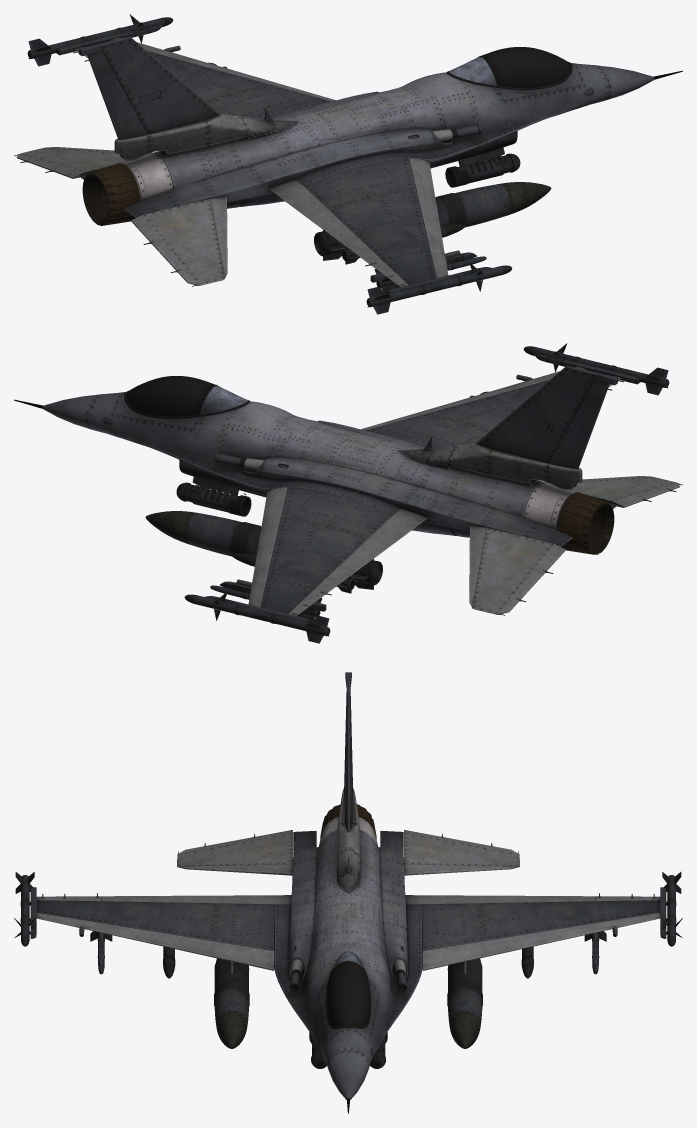
The model's file is fighter_jet.glb.
3 renders of one model, top to bottom at view 1: azimuth 30°, elevation 25°; view 2: azimuth 150°, elevation 25°; view 3: azimuth 270°, elevation 25°, orthographic. The views are drawn at different scales.
Visible parts, largest first — view 1: node_id317_13, node_id315_12, node_id334_23, node_id346_25, node_id328_19, node_id322_16, node_id330_21; view 2: node_id317_13, node_id315_12, node_id324_17, node_id346_25, node_id322_16, node_id328_19, node_id320_15; view 3: node_id317_13, node_id315_12, node_id324_17, node_id334_23, node_id346_25, node_id322_16, node_id328_19.
Boxes of the visible parts, left/top/right/bottom form: node_id317_13: left=14, top=25, right=682, bottom=293; node_id315_12: left=114, top=57, right=520, bottom=208; node_id334_23: left=314, top=182, right=551, bottom=260; node_id346_25: left=483, top=47, right=570, bottom=87; node_id328_19: left=366, top=262, right=512, bottom=314; node_id322_16: left=27, top=14, right=173, bottom=66; node_id330_21: left=374, top=256, right=486, bottom=292; node_id317_13: left=14, top=354, right=682, bottom=622; node_id315_12: left=176, top=386, right=582, bottom=537; node_id324_17: left=145, top=511, right=382, bottom=589; node_id346_25: left=126, top=376, right=213, bottom=416; node_id322_16: left=184, top=591, right=330, bottom=643; node_id328_19: left=523, top=343, right=669, bottom=395; node_id320_15: left=210, top=585, right=322, bottom=621; node_id317_13: left=29, top=672, right=667, bottom=1113; node_id315_12: left=100, top=788, right=596, bottom=1068; node_id324_17: left=447, top=958, right=482, bottom=1048; node_id334_23: left=214, top=958, right=249, bottom=1048; node_id346_25: left=326, top=962, right=370, bottom=1026; node_id322_16: left=660, top=872, right=682, bottom=946; node_id328_19: left=14, top=872, right=36, bottom=946.
Size of the model in its own units: 0.8075 by 0.2733 by 0.8142.
Materials: 25 (25 with a texture image).
